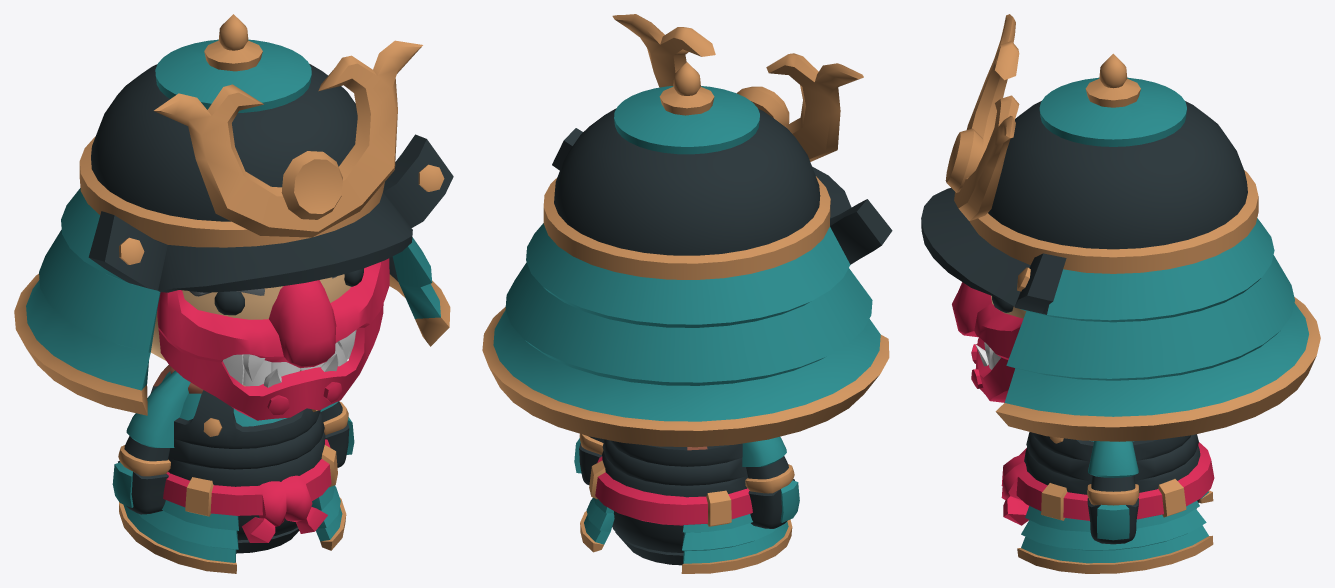
File: character_samurai_green.gltf
3 renders of one model, left to right at view 1: azimuth 30°, elevation 25°; view 2: azimuth 150°, elevation 25°; view 3: azimuth 270°, elevation 25°, orthographic. The views are drawn at different scales.
Visible parts, largest first — view 1: character_samurai_head_green, character_samurai_body_green, character_samurai_mask, character_samurai_armRight_green, character_samurai_armLeft_green; view 2: character_samurai_head_green, character_samurai_body_green, character_samurai_armRight_green, character_samurai_armLeft_green; view 3: character_samurai_head_green, character_samurai_body_green, character_samurai_armLeft_green, character_samurai_mask.
Part boxes in pixels (box(x1,y1,x2,y2)): character_samurai_head_green: box(14, 14, 453, 415); character_samurai_body_green: box(119, 365, 346, 573); character_samurai_mask: box(157, 258, 389, 420); character_samurai_armRight_green: box(112, 370, 190, 514); character_samurai_armLeft_green: box(320, 401, 354, 467); character_samurai_head_green: box(482, 14, 892, 447); character_samurai_body_green: box(580, 439, 792, 573); character_samurai_armRight_green: box(742, 436, 799, 528); character_samurai_armLeft_green: box(574, 433, 604, 484); character_samurai_head_green: box(921, 14, 1320, 441); character_samurai_body_green: box(1001, 432, 1214, 573); character_samurai_armLeft_green: box(1087, 441, 1139, 544); character_samurai_mask: box(952, 282, 1023, 402).
Bounding box in the file's own units: 1.61 × 2.08 × 1.56.
